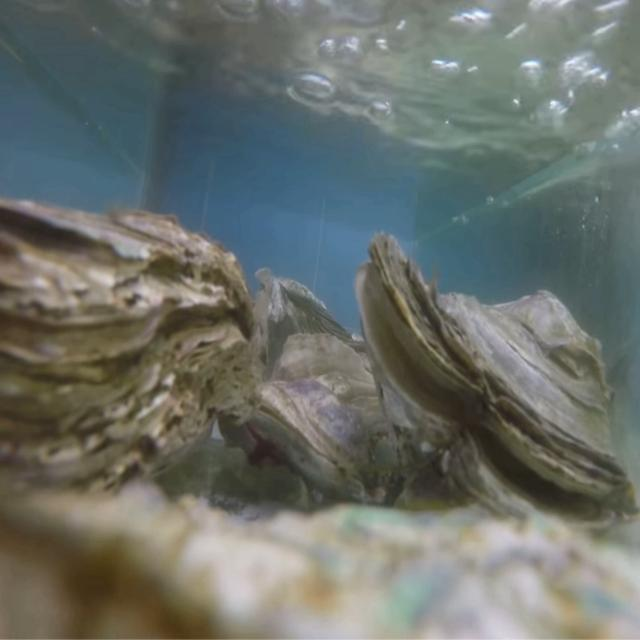Oyster-Closed: (0, 197, 256, 540), (251, 332, 409, 508)
Oyster-Indeterminate: (0, 483, 640, 640)
Oyster-Open: (354, 231, 640, 544)
